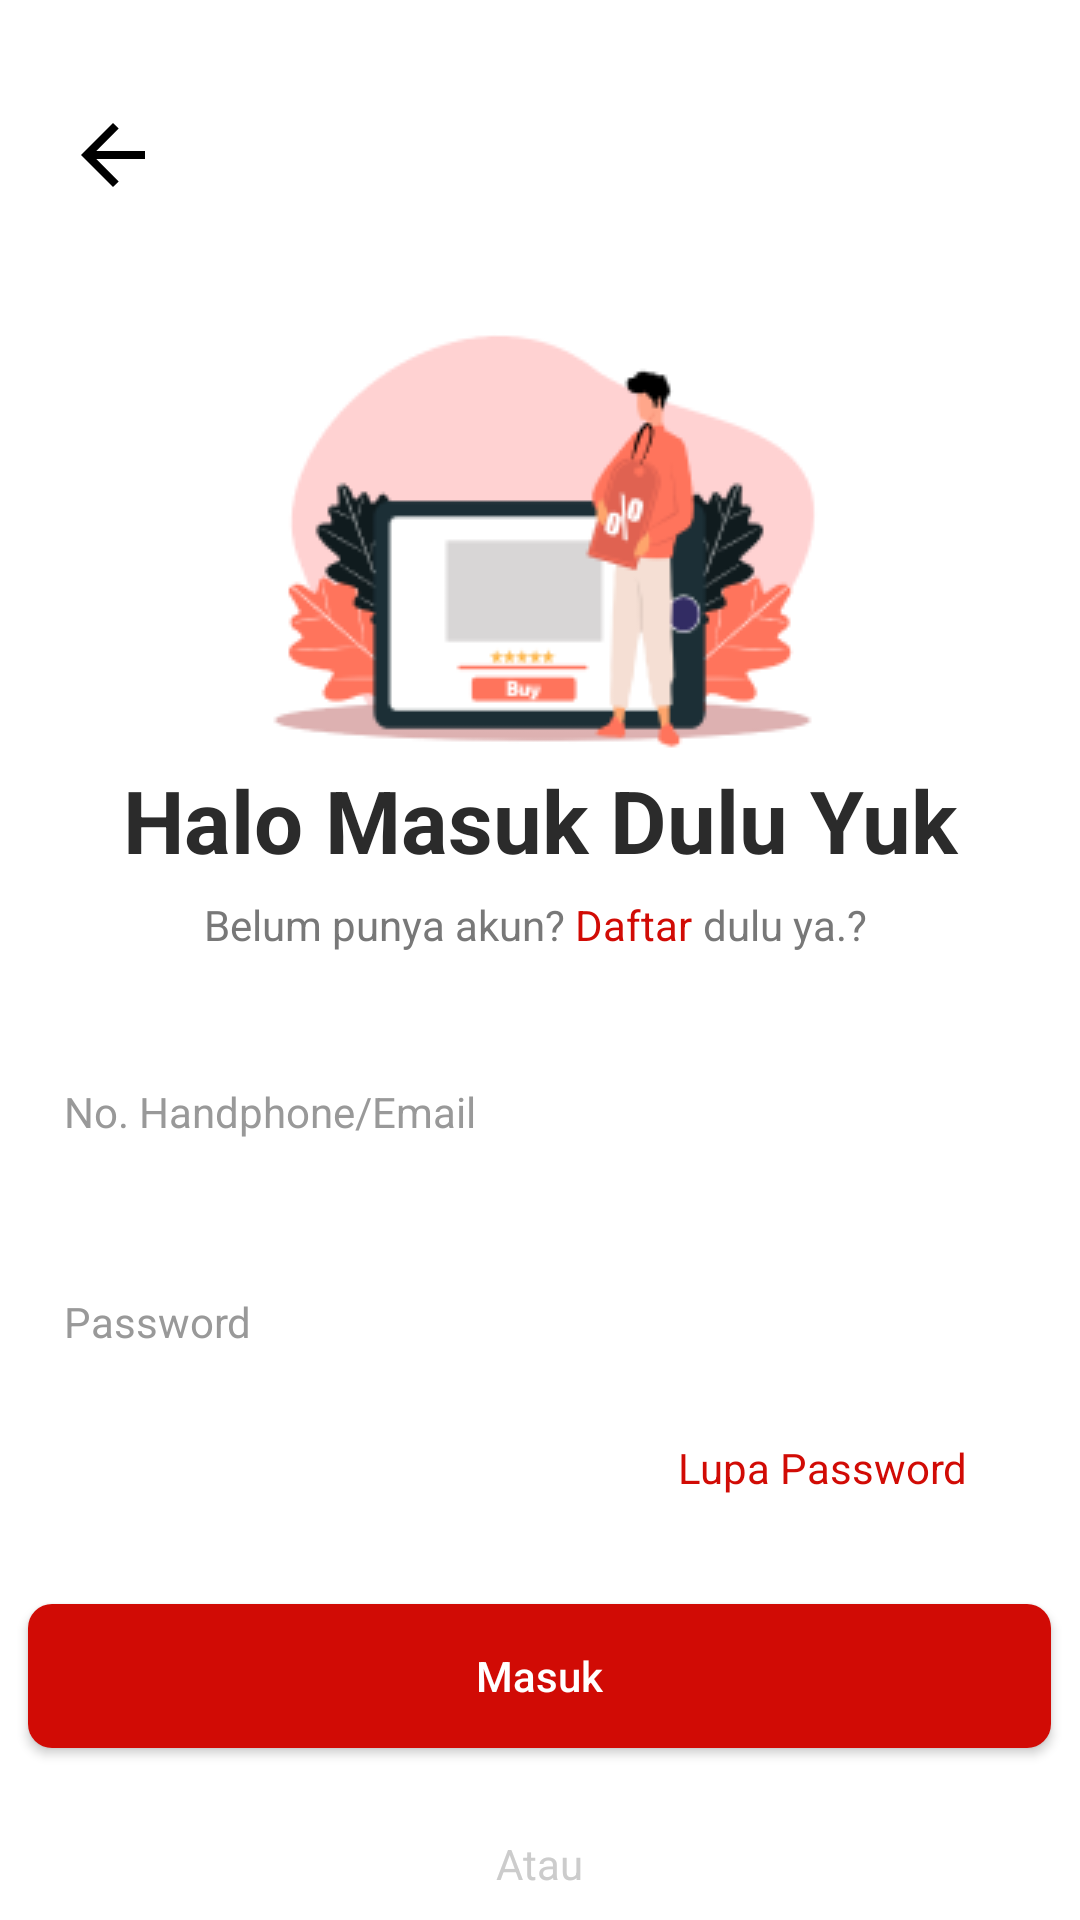

Named icons in this screenshot (1080x1920) and their bounding boxes, (x1, y1, x2, y2):
arrow: (81, 123, 145, 187)
